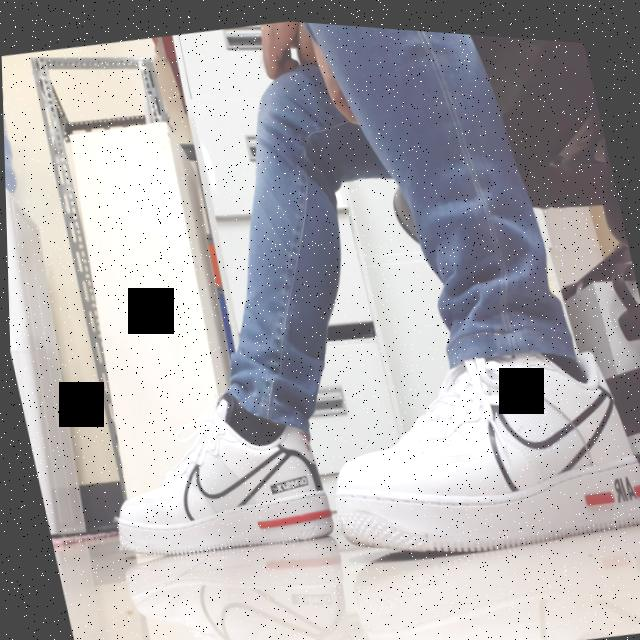shoes: (291, 289, 640, 595), (78, 347, 348, 586)
